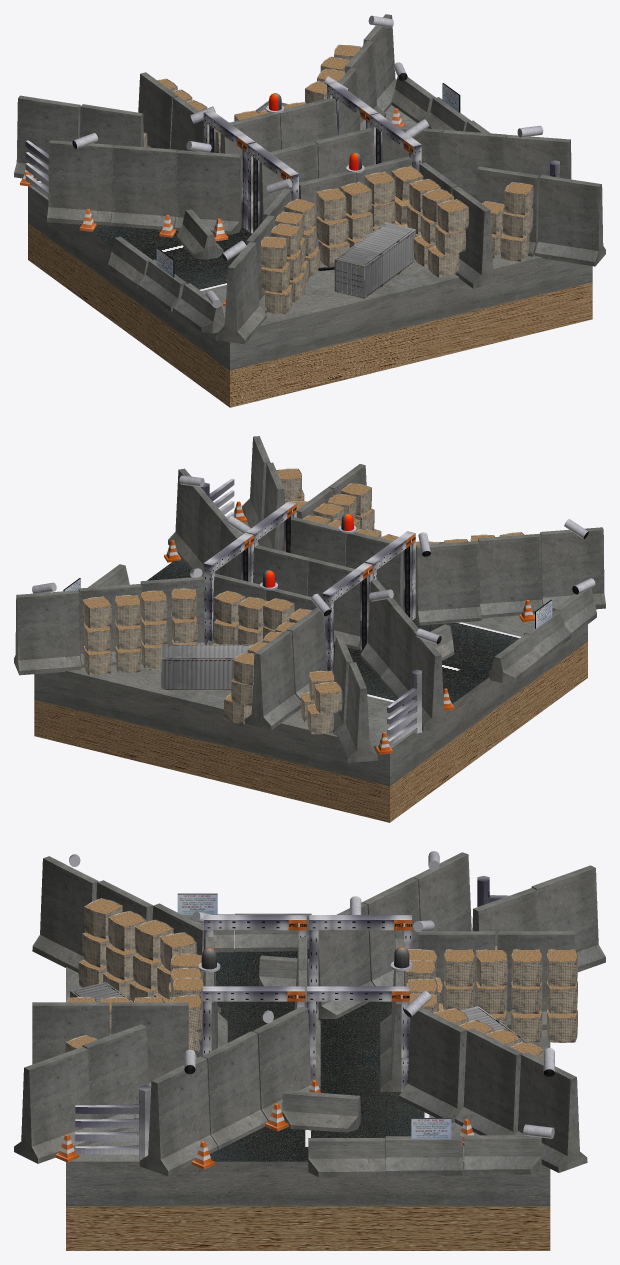
Rendered from CheckPoint.DAE.
3 views of the same model, one above another, from view 1: azimuth 30°, elevation 25°; view 2: azimuth 150°, elevation 25°; view 3: azimuth 270°, elevation 25° (orthographic). The views are drawn at different scales.
Parts seen in each view (by area): view 1: Ground, CheckPointObject15, CheckPointObject56, CheckPointObject57, CheckPointObject55, CheckPointObject16, CheckPointObject54, CheckPointObject18, CheckPointObject20, CheckPointObject19, CheckPointObject07, CheckPointObject53 (+43 smaller); view 2: Ground, CheckPointObject12, CheckPointObject51, CheckPointObject52, CheckPointObject72, CheckPointObject01, CheckPointObject02, CheckPointObject54, CheckPointObject73, CheckPointObject57, CheckPointObject09, CheckPointObject56 (+45 smaller); view 3: Ground, CheckPointObject15, CheckPointObject19, CheckPointObject10, CheckPointObject11, CheckPointObject12, CheckPointObject18, CheckPointObject14, CheckPointObject54, CheckPointObject17, CheckPointObject13, CheckPointObject55 (+49 smaller).
Boxes of the visible parts, x1,y1,x2,y2 form: Ground: [28, 105, 592, 407]; CheckPointObject15: [535, 175, 605, 266]; CheckPointObject56: [110, 145, 177, 229]; CheckPointObject57: [47, 140, 113, 225]; CheckPointObject55: [174, 150, 241, 234]; CheckPointObject16: [334, 222, 415, 298]; CheckPointObject54: [14, 95, 80, 181]; CheckPointObject18: [442, 130, 507, 198]; CheckPointObject20: [452, 186, 500, 288]; CheckPointObject19: [506, 135, 571, 179]; CheckPointObject07: [280, 98, 337, 149]; CheckPointObject53: [80, 104, 143, 147]; Ground: [34, 522, 605, 822]; CheckPointObject12: [14, 590, 81, 675]; CheckPointObject51: [415, 541, 481, 625]; CheckPointObject52: [478, 533, 542, 618]; CheckPointObject72: [244, 630, 301, 730]; CheckPointObject01: [161, 644, 252, 689]; CheckPointObject02: [307, 558, 360, 649]; CheckPointObject54: [336, 662, 377, 762]; CheckPointObject73: [287, 607, 327, 700]; CheckPointObject57: [402, 630, 451, 731]; CheckPointObject09: [290, 517, 346, 566]; CheckPointObject56: [380, 605, 418, 699]; Ground: [32, 856, 550, 1250]; CheckPointObject15: [14, 1047, 96, 1163]; CheckPointObject19: [139, 1056, 217, 1176]; CheckPointObject10: [399, 1007, 466, 1123]; CheckPointObject11: [455, 1028, 522, 1135]; CheckPointObject12: [515, 1052, 587, 1172]; CheckPointObject18: [201, 1031, 267, 1149]; CheckPointObject14: [82, 1024, 148, 1132]; CheckPointObject54: [531, 865, 605, 972]; CheckPointObject17: [252, 1007, 311, 1121]; CheckPointObject13: [111, 1002, 188, 1086]; CheckPointObject55: [318, 902, 374, 1018].
Bounding box in the file's own units: 759 × 294 × 789.
